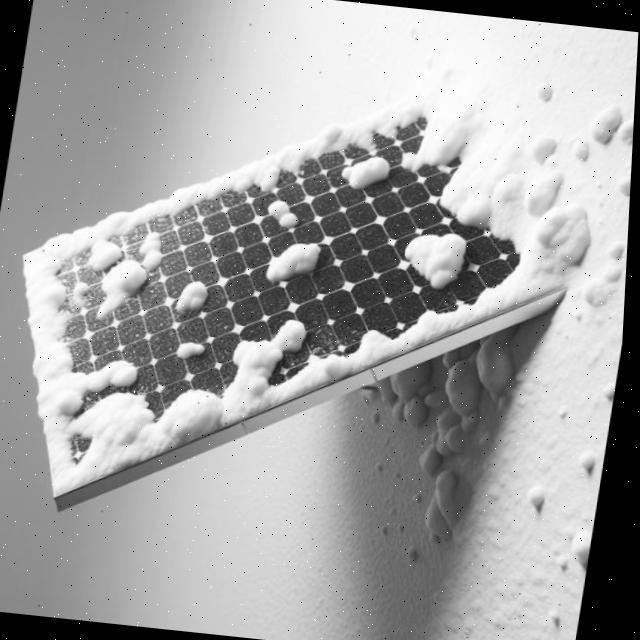Anomaly Solar Panel: (0, 51, 589, 505)
Snow: (0, 52, 587, 504), (10, 97, 530, 465), (81, 227, 177, 327), (397, 225, 469, 292), (261, 238, 328, 289), (338, 153, 391, 196), (171, 277, 214, 321), (264, 196, 302, 236), (69, 280, 90, 307), (177, 344, 206, 358)
